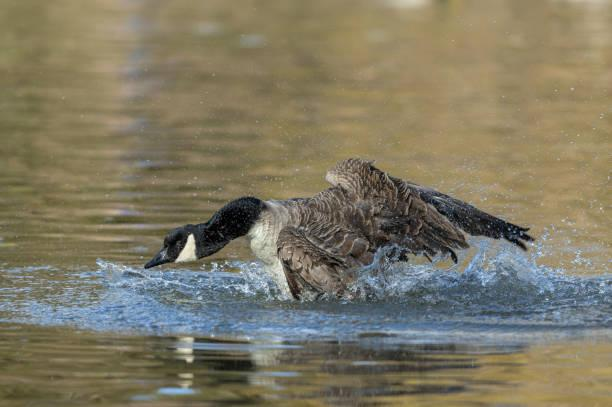Canadian-Goose: (142, 154, 537, 315)
